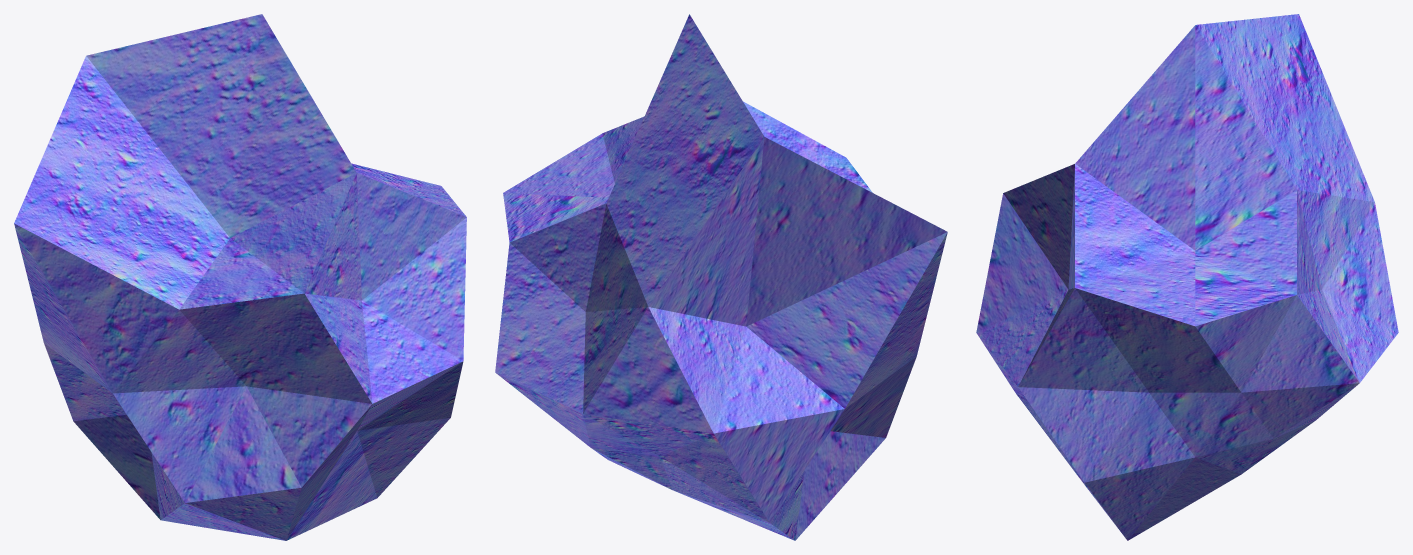
The model's file is mediumasteroid0_LOD4.fbx.
3 renders of one model, left to right at view 1: azimuth 30°, elevation 25°; view 2: azimuth 150°, elevation 25°; view 3: azimuth 270°, elevation 25°, orthographic. The views are drawn at different scales.
Visible parts, largest first — view 1: Icosphere; view 2: Icosphere; view 3: Icosphere.
Part boxes in pixels (x1,y1,x2,y2): Icosphere: (14,14,466,540); Icosphere: (495,14,947,540); Icosphere: (976,14,1398,540).
Bounding box in the file's own units: 329 × 354 × 283.
